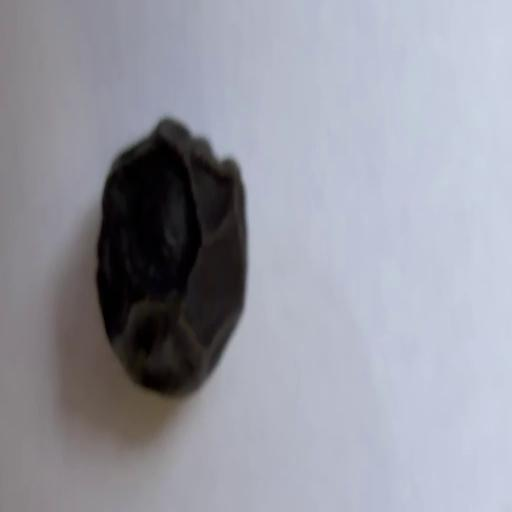Black_pepper: (88, 113, 255, 401)
